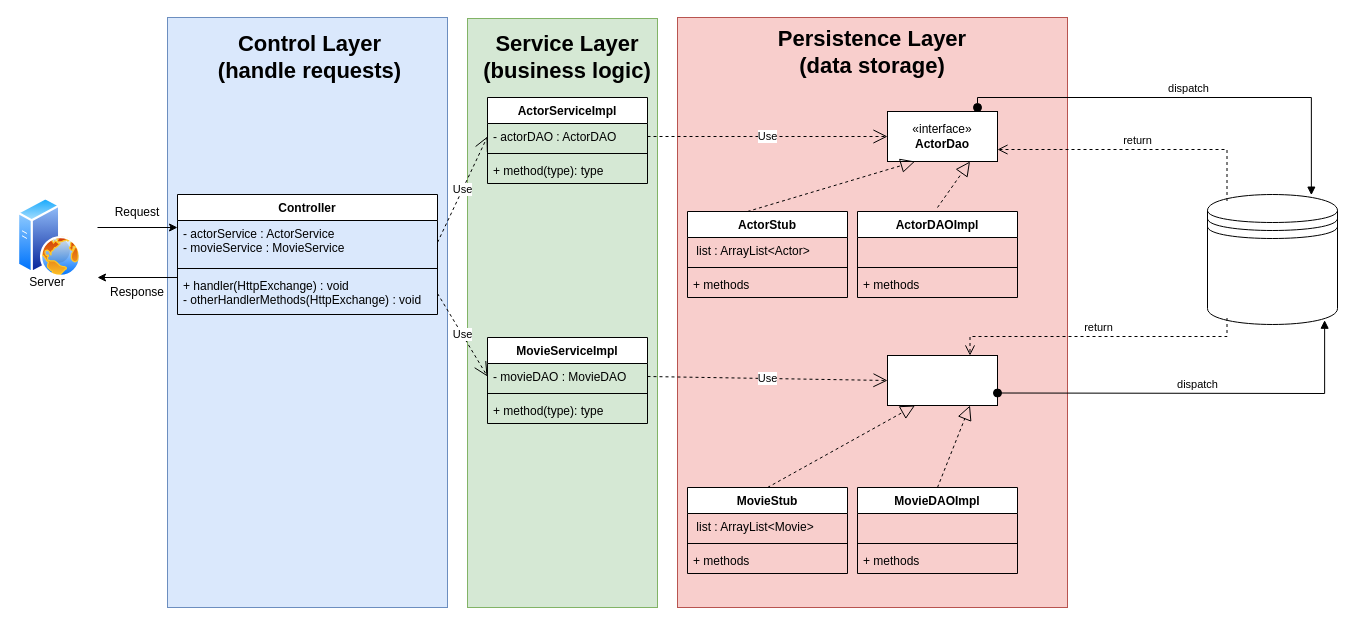
Some shapes in this 1355 by 625 pixel diagram are drawn without their labels. Each missing label, with the centre of its shape:
"neo4j" goes at (x=1272, y=259).
"«interface» MovieDAO" goes at (x=942, y=380).
